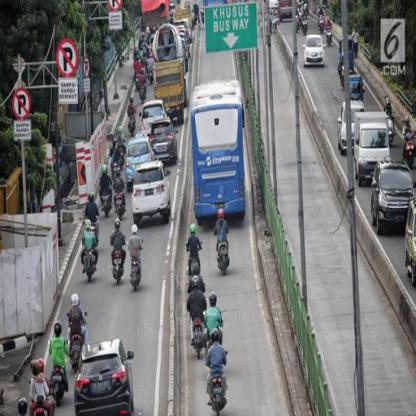bus: (190, 76, 248, 230)
car: (75, 339, 135, 415), (372, 156, 414, 233), (132, 160, 172, 228), (352, 112, 392, 176), (125, 136, 156, 181), (148, 118, 180, 161), (140, 100, 166, 132), (300, 31, 326, 63)
motorbike: (204, 368, 229, 415), (47, 362, 70, 406), (185, 310, 206, 358), (125, 250, 144, 288), (108, 245, 124, 288), (68, 325, 86, 362), (110, 184, 126, 222), (214, 239, 233, 271), (28, 392, 53, 416), (82, 247, 98, 278), (99, 184, 112, 212)
